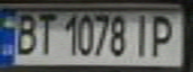0: (75, 11, 96, 56)
1: (57, 11, 78, 56)
7: (93, 11, 112, 57)
8: (106, 11, 133, 57)
B: (9, 10, 42, 56)
I: (127, 11, 157, 58)
P: (145, 11, 187, 58)
T: (30, 10, 57, 56)
